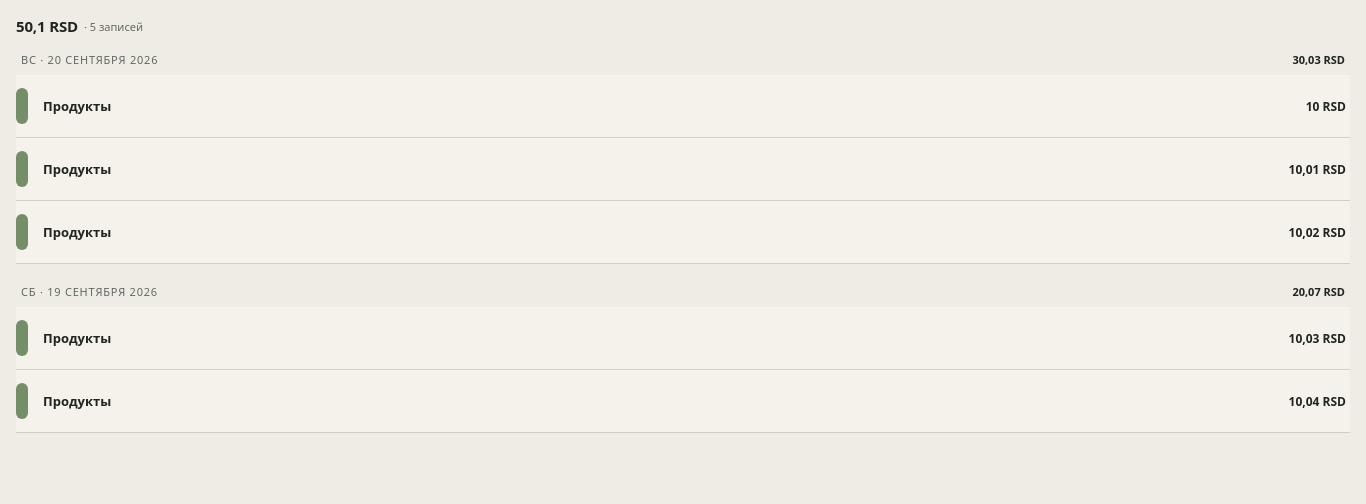
Test case: history toolbar entering and leaving selection › grows the toolbar from its old height to the new one as records get selected, then lets it rest
Press the mouse on the element with class "history-expense" showing "Продукты 10 RSD" at [683, 106], box [16,75,1350,138]
Wait 700 ms
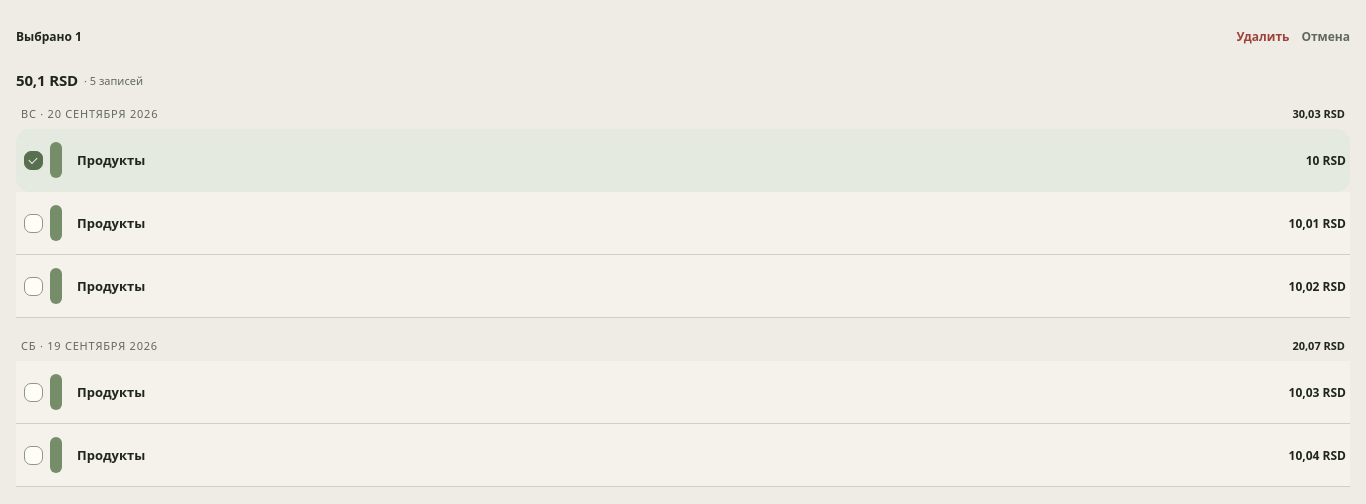
Expected: the element with class "history-toolbar-slot" shows "Выбрано 1", [0,0,1365,92]
